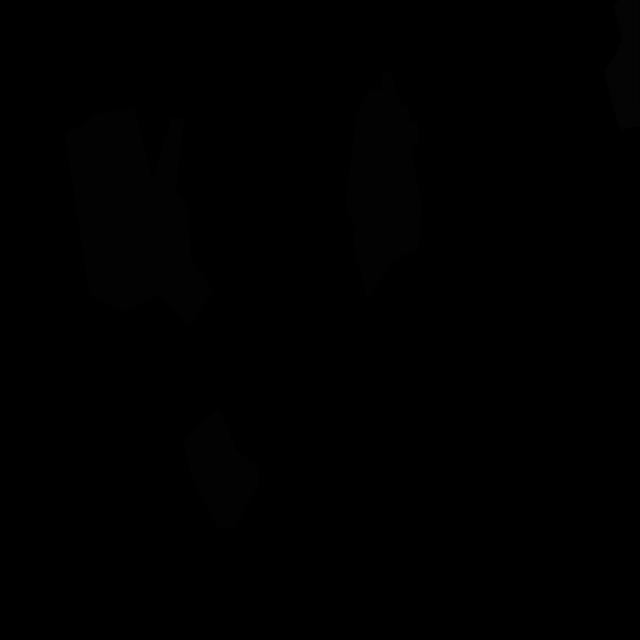cardboard: (65, 108, 212, 327), (346, 71, 422, 300), (183, 409, 259, 529)
soft_plastic: (604, 0, 640, 131)
